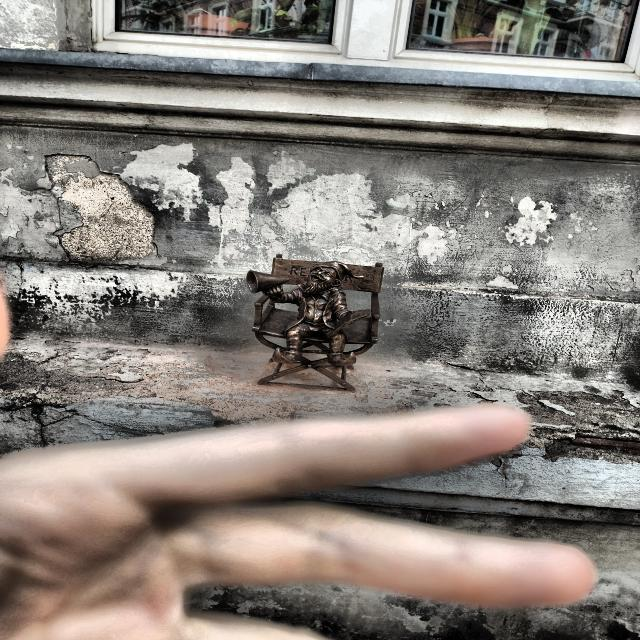Rezyser: (247, 255, 383, 391)
